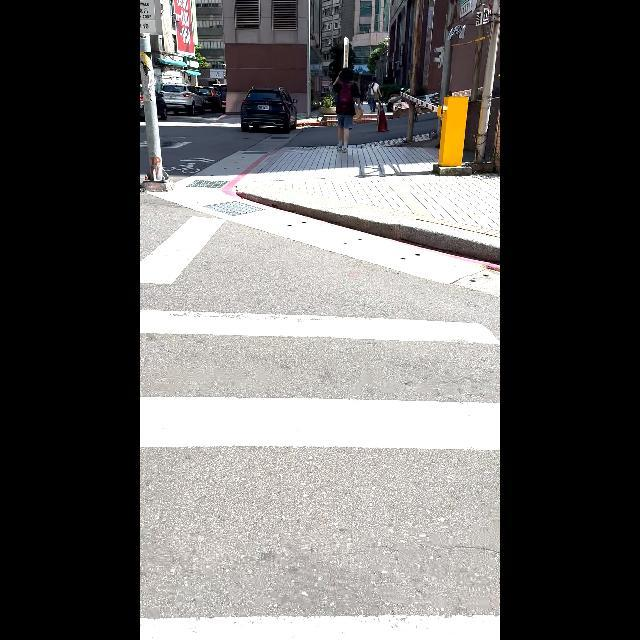sidewalk: (140, 308, 500, 454)
